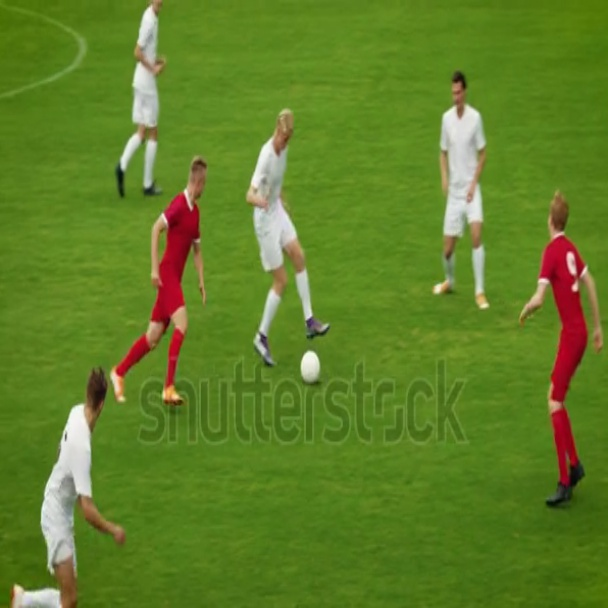ball: (295, 346, 325, 392)
